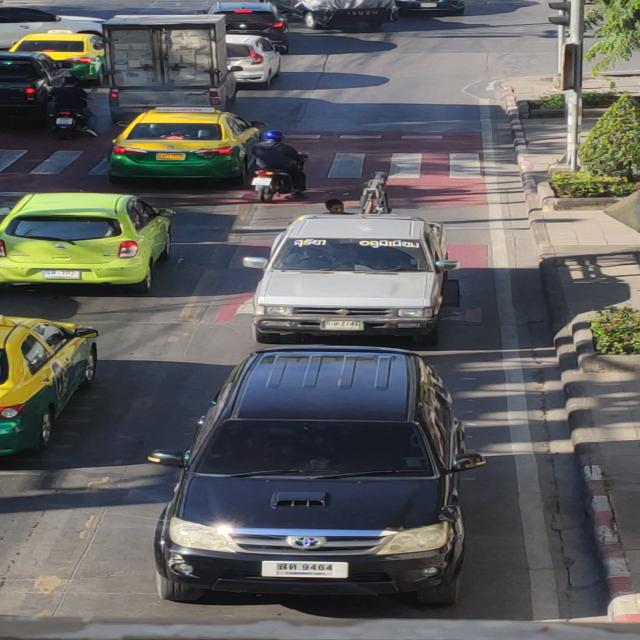car: (131, 340, 497, 616), (236, 191, 464, 331)
